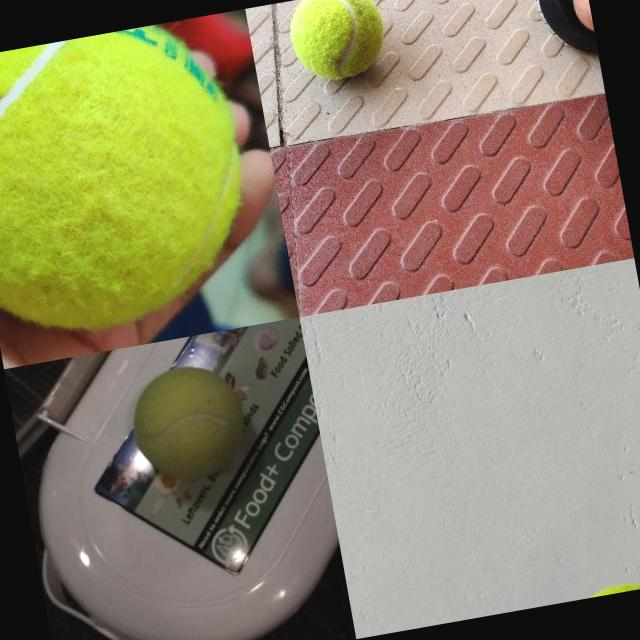tennis-ball: (0, 14, 262, 344), (124, 356, 254, 489), (284, 0, 390, 85)
